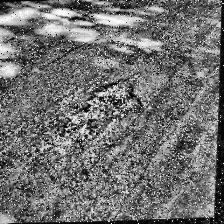pothole: (78, 76, 144, 122)
